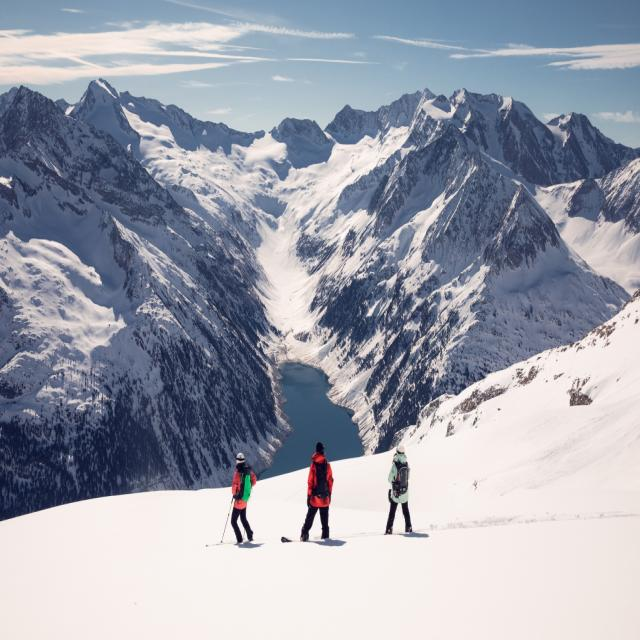skier: (206, 449, 265, 549)
snowboarder: (281, 439, 350, 550), (372, 439, 435, 542)
